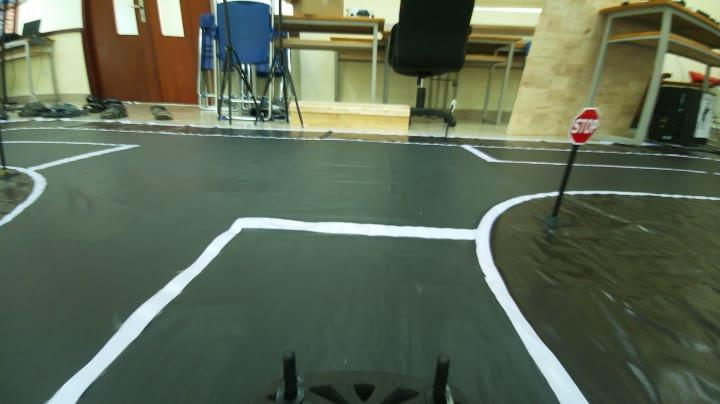stop: (560, 102, 603, 148)
